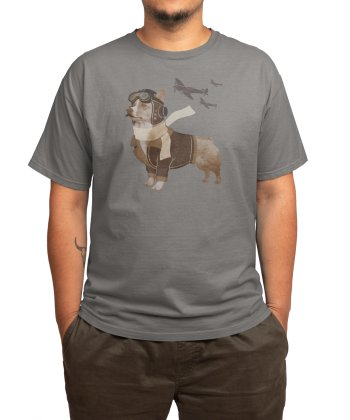design: (120, 74, 227, 193)
